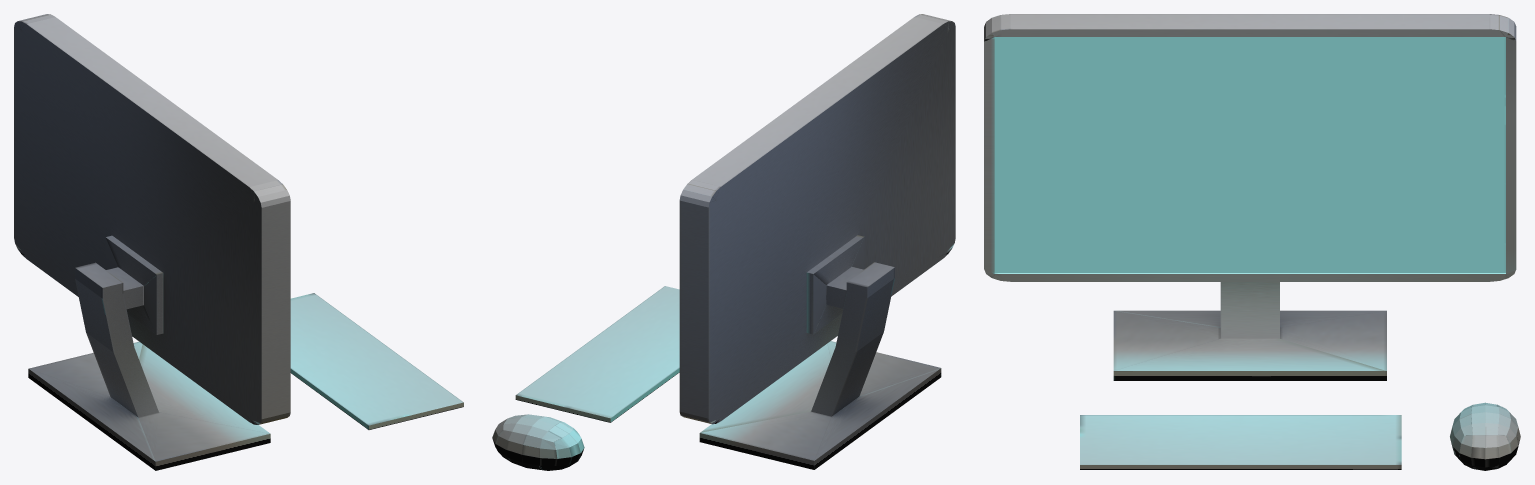
3 renders of one model, left to right at view 1: azimuth 30°, elevation 25°; view 2: azimuth 150°, elevation 25°; view 3: azimuth 270°, elevation 25°, orthographic. The views are drawn at different scales.
Visible parts, largest first — view 1: MonitorNew; view 2: MonitorNew; view 3: MonitorNew.
Boxes of the visible parts, box(x1,y1,x2,y2) form: MonitorNew: box(14, 14, 463, 470); MonitorNew: box(492, 14, 955, 470); MonitorNew: box(984, 14, 1520, 470).
Bounding box in the file's own units: 1.35 × 1.42 × 1.98.
Materials: 1 (1 with a texture image).
